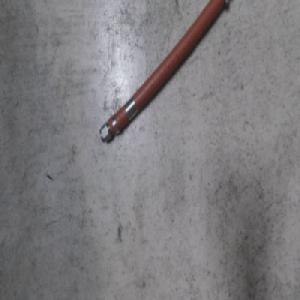Hose: (97, 0, 230, 145)
